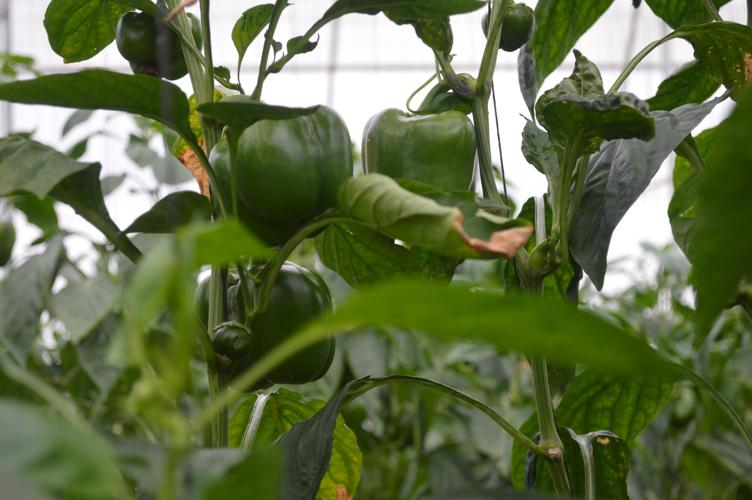BellPepper: (183, 258, 341, 393), (209, 103, 354, 216), (369, 98, 482, 224)
